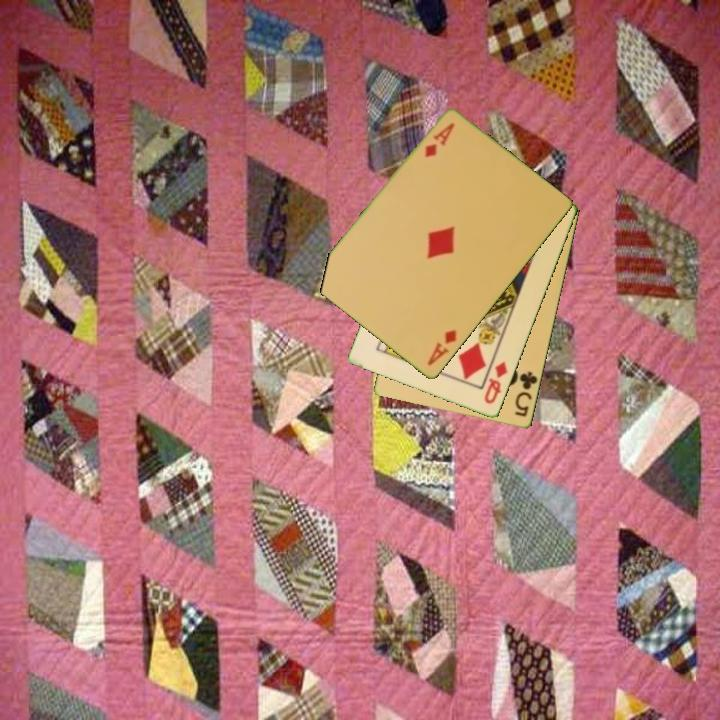5c: (511, 368, 540, 420)
Ad: (424, 326, 460, 369), (421, 119, 457, 161)
Qd: (481, 358, 511, 407)
